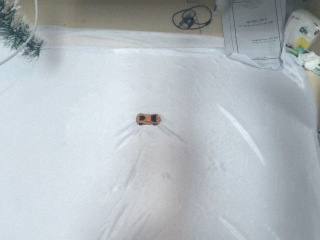toy_car: (136, 113, 161, 126)
